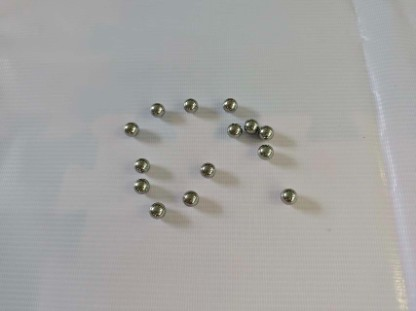ironball: (279, 187, 294, 204), (199, 161, 214, 178), (149, 202, 164, 219), (257, 143, 272, 159), (134, 156, 149, 172), (148, 101, 163, 117), (182, 190, 196, 206), (131, 177, 145, 193), (227, 122, 241, 136), (182, 97, 196, 111), (258, 124, 271, 138), (223, 97, 236, 111), (244, 118, 256, 132), (124, 121, 136, 135)
